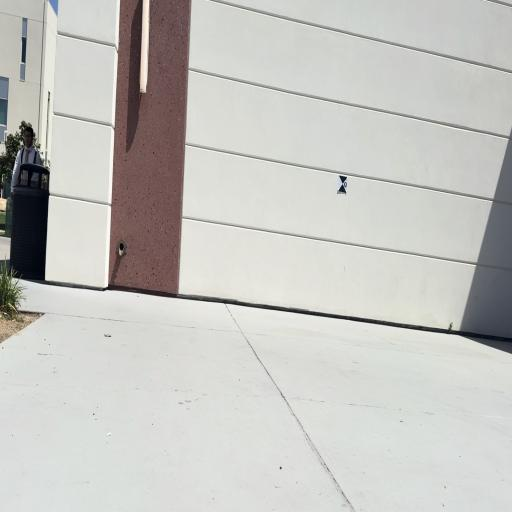target0: (337, 174, 348, 195)
